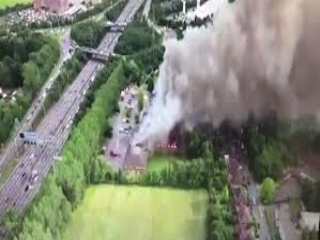smoke: (122, 37, 220, 171)
